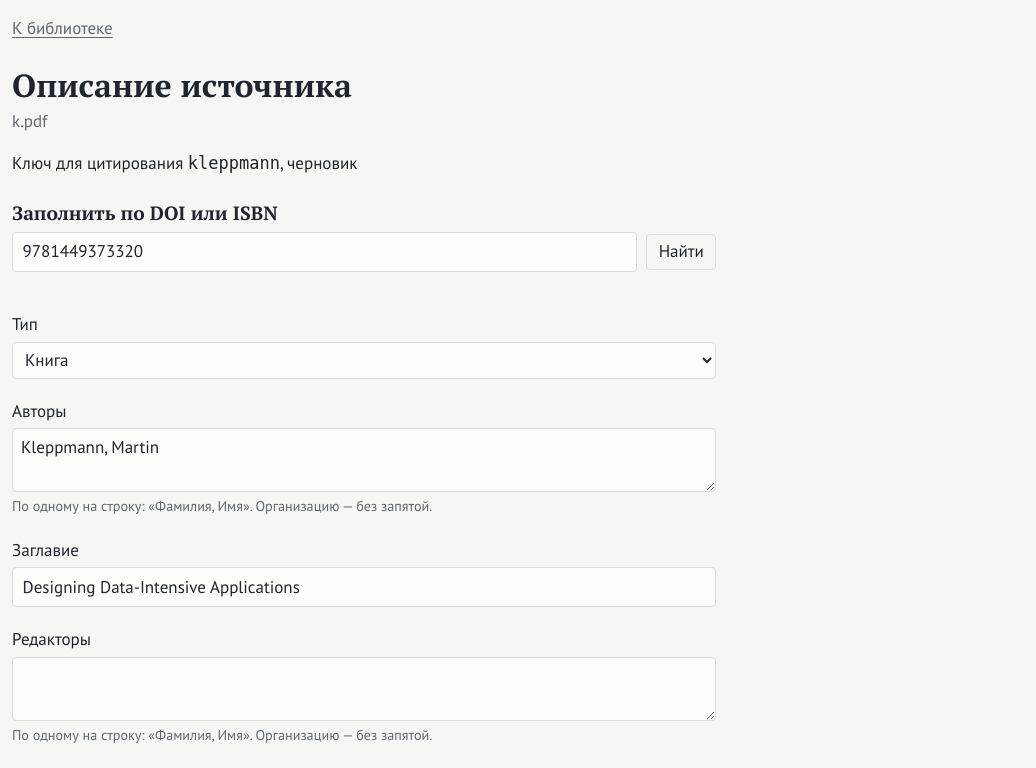
Test case: DescribePage › explains a lookup that needs the internet
Click the button "Найти": [681, 252] box [646, 234, 716, 270]
(page scrolled)
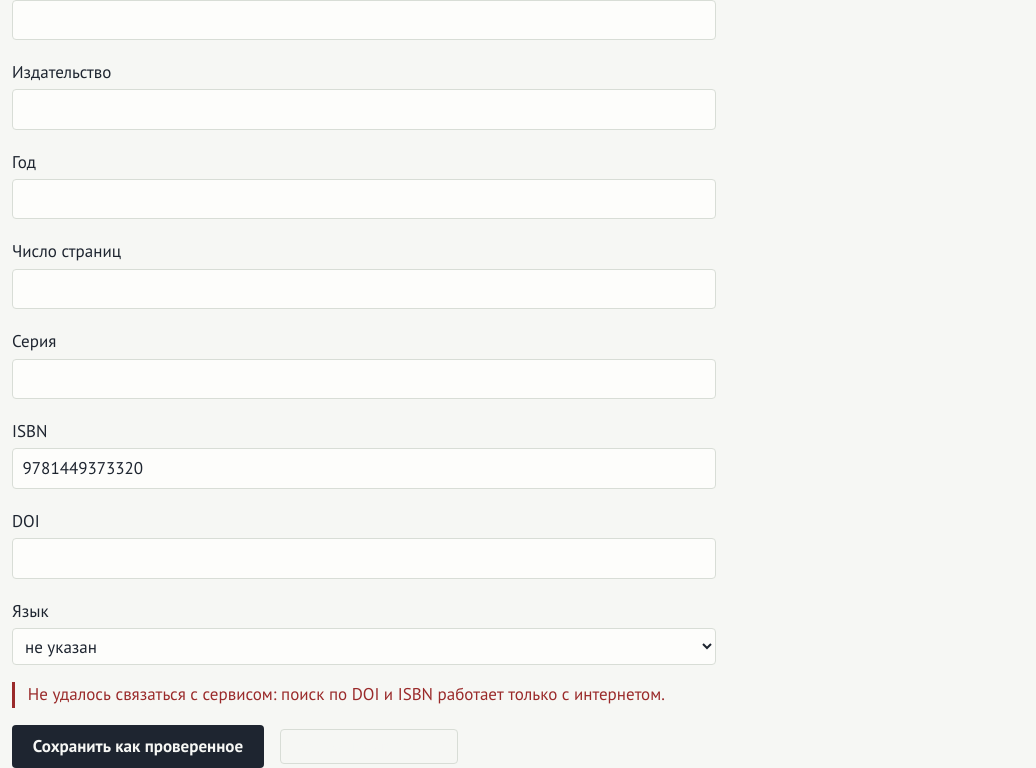
expect the message shows "только с интернетом": met, box [28, 683, 665, 705]
